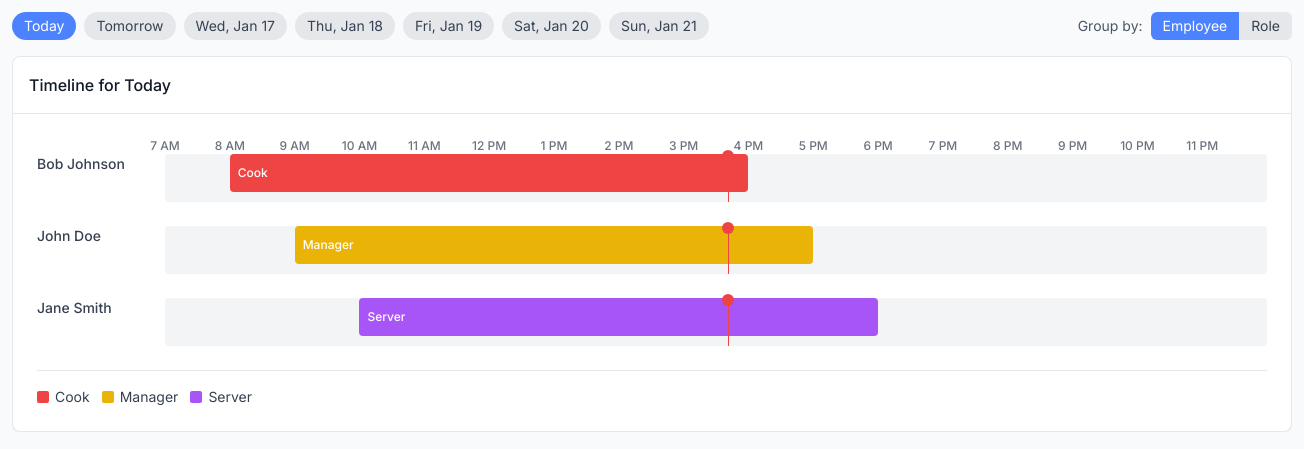
Test: TimelineView Component › Date Selection › should change selected date when date button is clicked
Click the button "Tomorrow": (130, 26) [84,12,176,40]
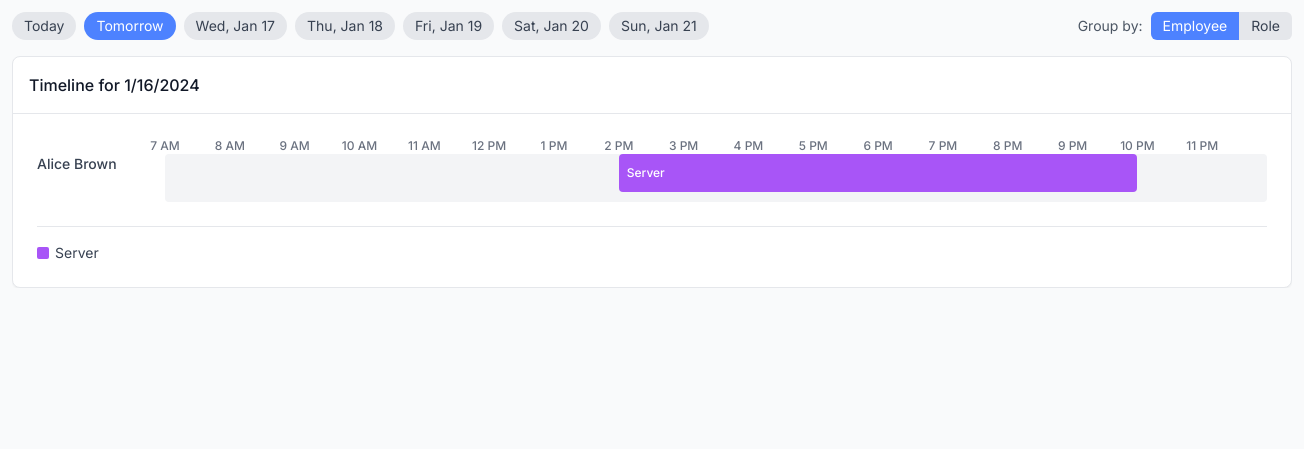
Now the heading with class "font-medium" reads "Timeline for 1/16/2024", box [29,75,200,95]
